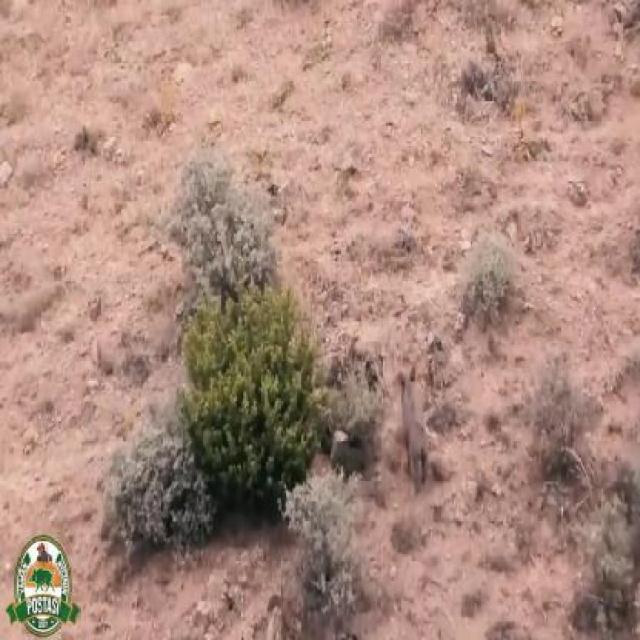Boar: (389, 332, 443, 473)
